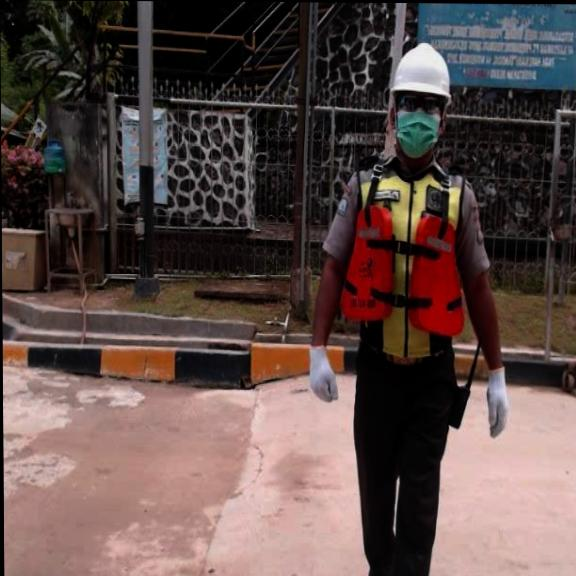safety_vest: (338, 199, 465, 338)
